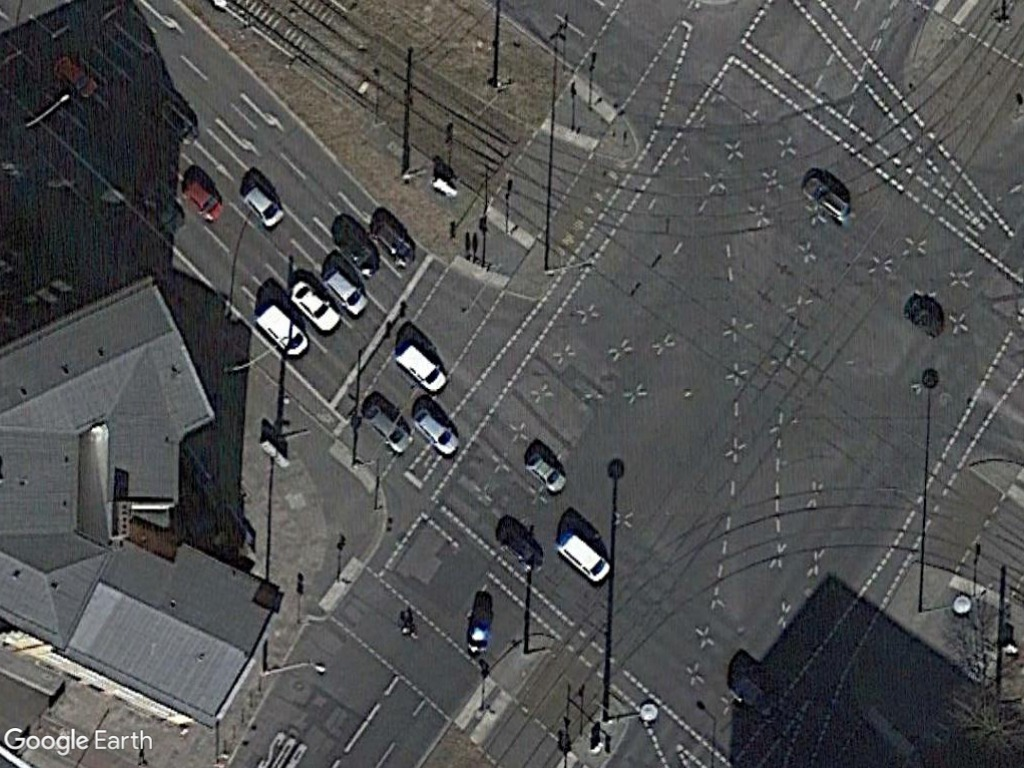car: (793, 167, 860, 229), (290, 274, 345, 336), (315, 262, 376, 317), (359, 401, 415, 457), (407, 404, 465, 457), (518, 445, 574, 496), (236, 181, 291, 229), (176, 175, 228, 224)
van: (552, 527, 618, 589), (249, 300, 313, 359), (389, 339, 450, 394)
